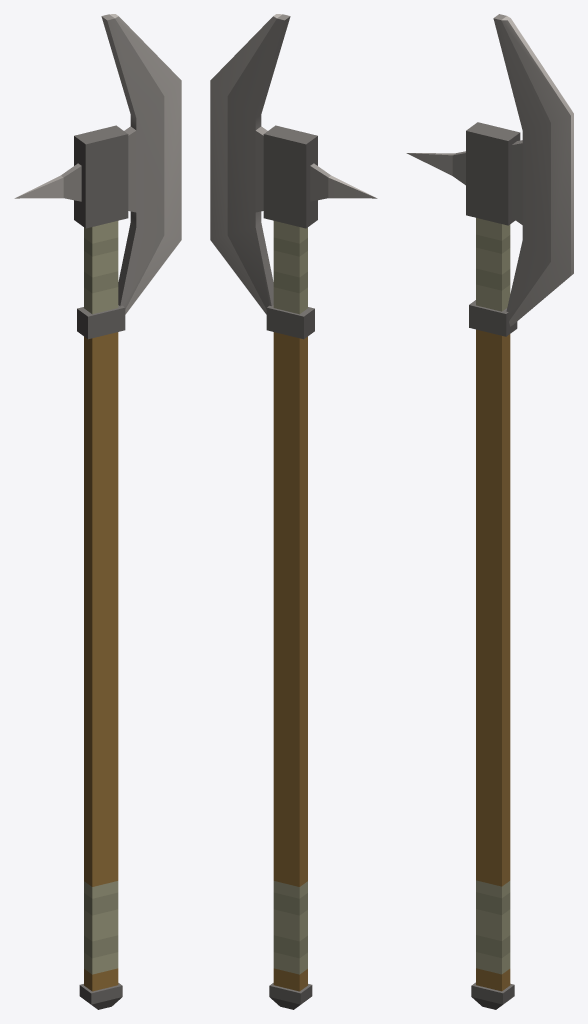
Rendered from SF_Wep_Human_Haldberd_01.fbx.
The picture shows the model from 3 angles, left to right: view 1: azimuth 30°, elevation 25°; view 2: azimuth 150°, elevation 25°; view 3: azimuth 330°, elevation 25°; orthographic projection.
Parts seen in each view (by area): view 1: SF_Wep_Human_Haldberd_01; view 2: SF_Wep_Human_Haldberd_01; view 3: SF_Wep_Human_Haldberd_01.
Boxes of the visible parts, box(x1,y1,x2,y2) form: SF_Wep_Human_Haldberd_01: box(14, 14, 181, 1009); SF_Wep_Human_Haldberd_01: box(210, 14, 377, 1009); SF_Wep_Human_Haldberd_01: box(406, 14, 573, 1009).
Bounding box in the file's own units: 0.8726 × 4.96 × 0.1077.
